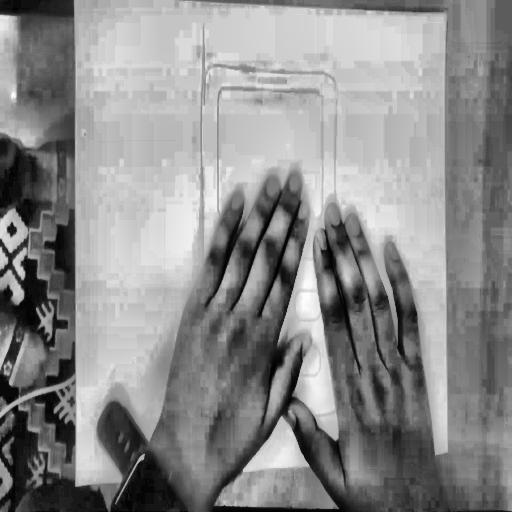bottom_left: (72, 478, 81, 493)
bottom_right: (444, 443, 452, 455)
mobile: (196, 16, 349, 434)
top_right: (442, 8, 451, 23)
